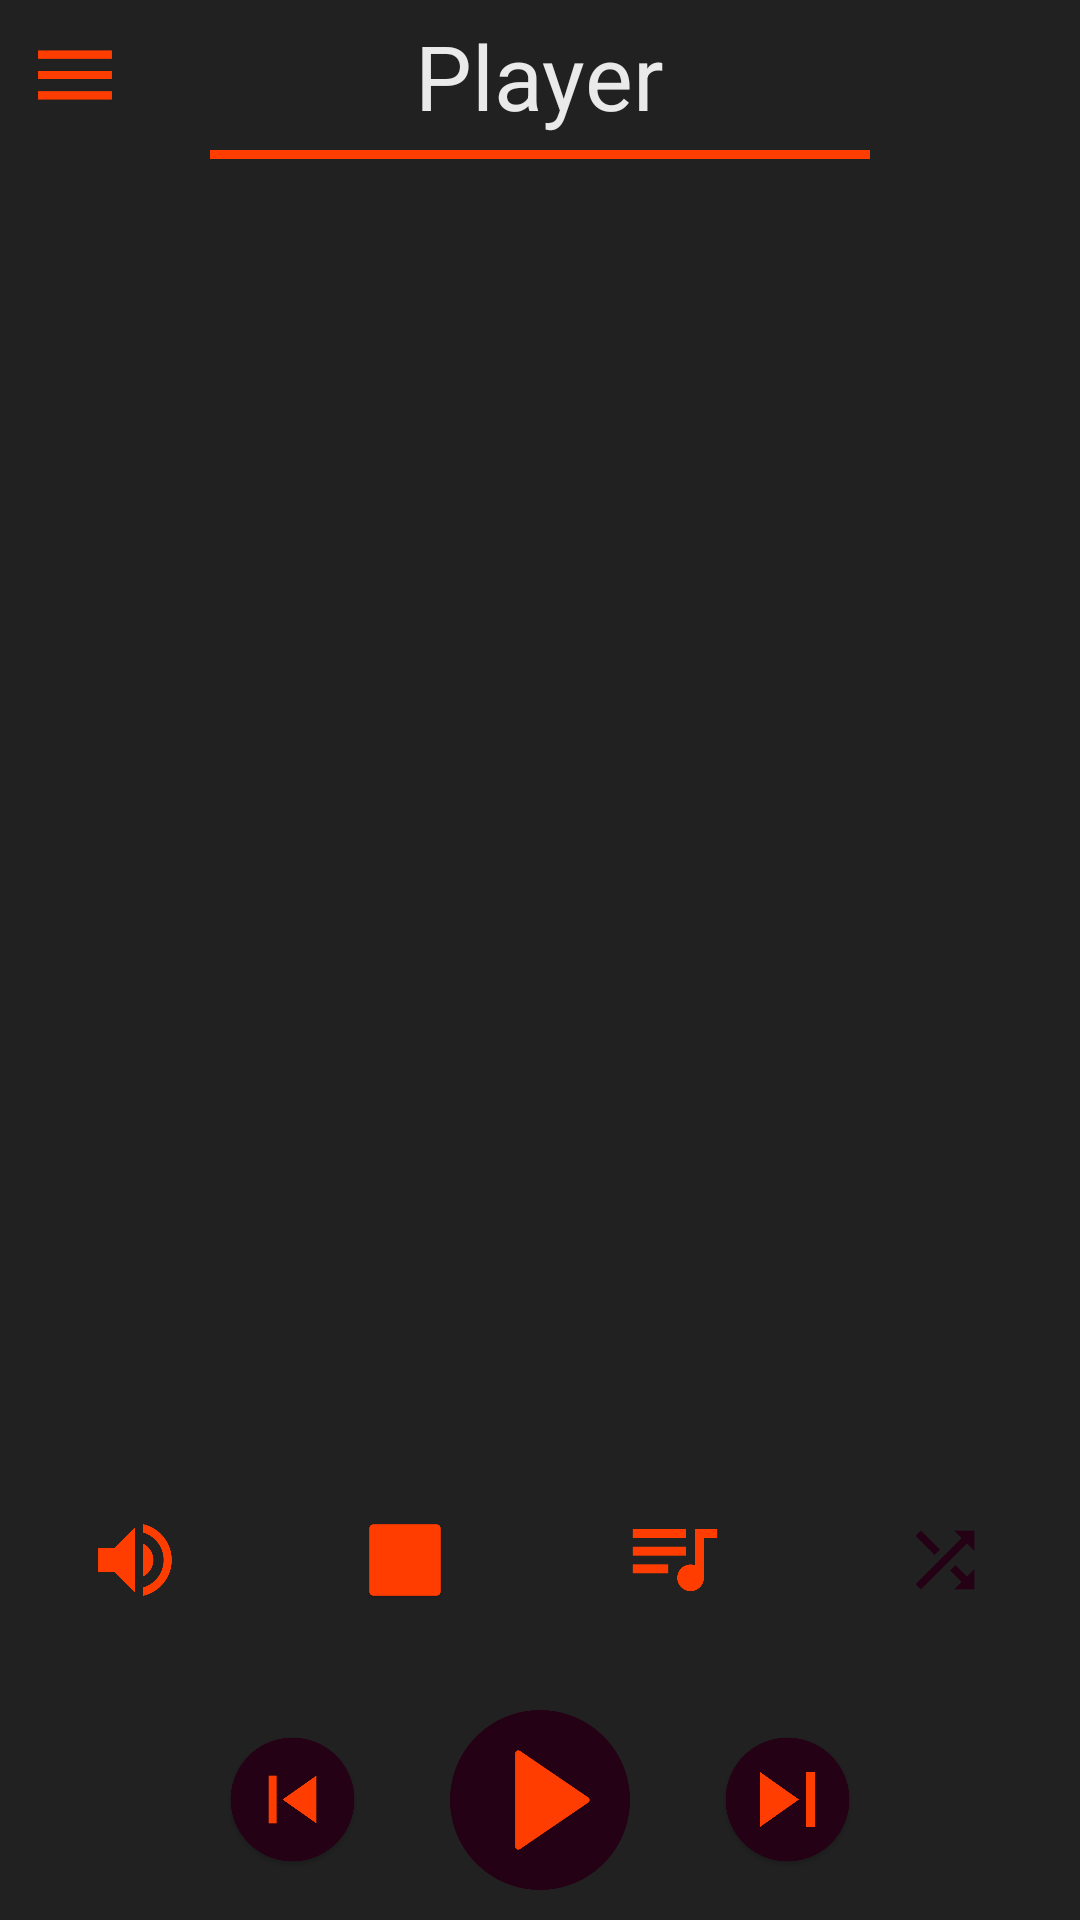

Where icons sit on this 1080 × 1920 app screen, as (x1, y1, x2, y2):
next: (726, 1738, 849, 1861)
not muted: (98, 1524, 172, 1596)
play: (450, 1710, 630, 1890)
playlist: (632, 1529, 718, 1591)
previous: (231, 1738, 354, 1861)
shuffle off: (916, 1531, 974, 1589)
side nav: (38, 50, 112, 100)
stop: (369, 1524, 441, 1596)
